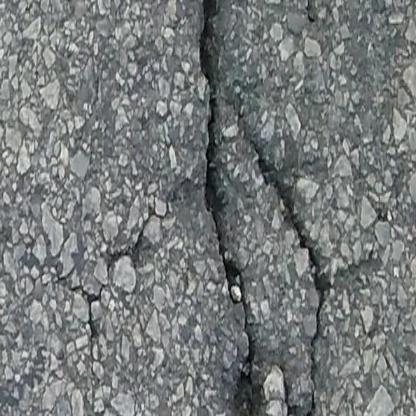Cracks: (153, 53, 408, 295), (175, 0, 272, 392)
